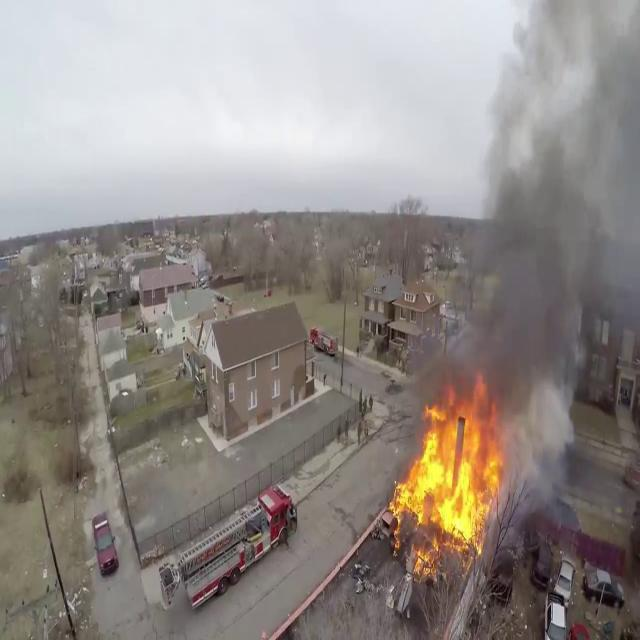Fire: (381, 397, 509, 572)
Smoke: (439, 0, 640, 425)
